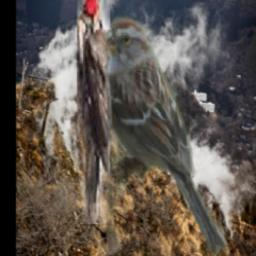Sparrow: (106, 16, 227, 256)
Woodpecker: (78, 0, 111, 225)
